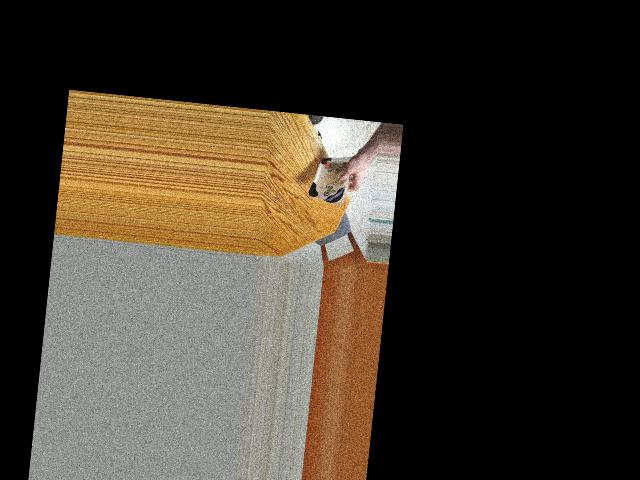cheese: (311, 147, 352, 207)
